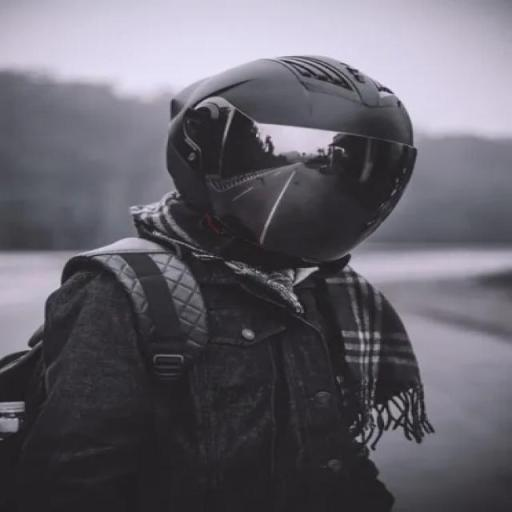Helmet: (168, 56, 415, 262)
